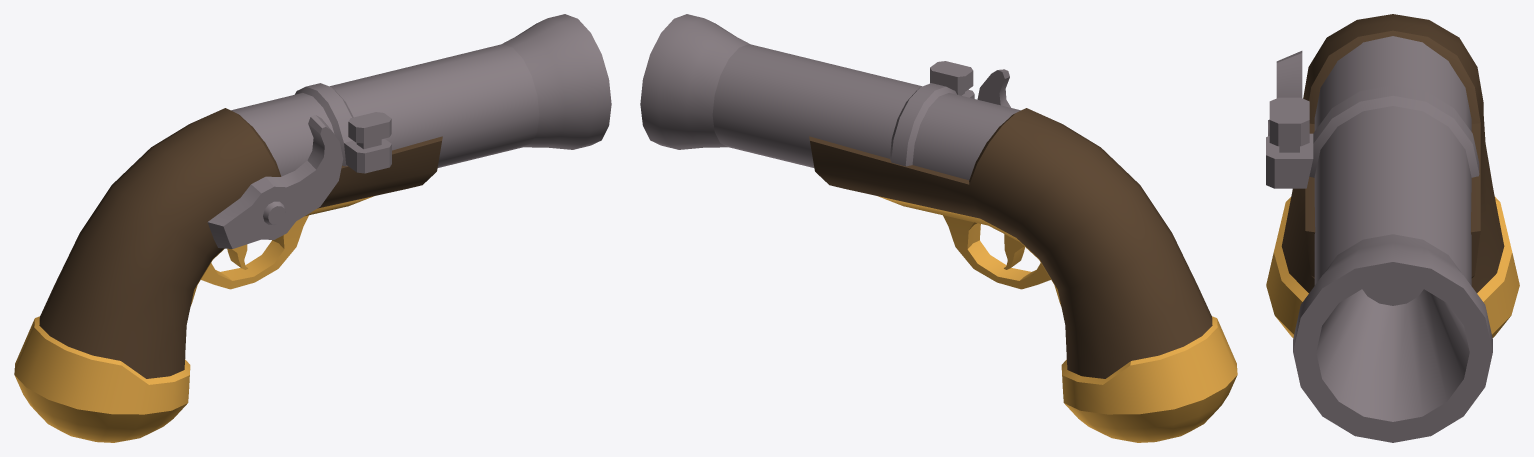
The model's file is pistol.glb.
The picture shows the model from 3 angles, left to right: view 1: azimuth 30°, elevation 25°; view 2: azimuth 150°, elevation 25°; view 3: azimuth 270°, elevation 25°; orthographic projection. The views are drawn at different scales.
Parts seen in each view (by area): view 1: pistol, flintlock; view 2: pistol, flintlock; view 3: pistol, flintlock.
Boxes of the visible parts, left/top/right/bottom form: pistol: left=14, top=14, right=611, bottom=442; flintlock: left=207, top=115, right=343, bottom=248; pistol: left=640, top=14, right=1237, bottom=442; flintlock: left=977, top=69, right=1010, bottom=107; pistol: left=1266, top=14, right=1519, bottom=442; flintlock: left=1268, top=51, right=1302, bottom=136.
Size of the model in its own units: 1.24 by 0.6451 by 0.3341.
1 material, 1 textured.
